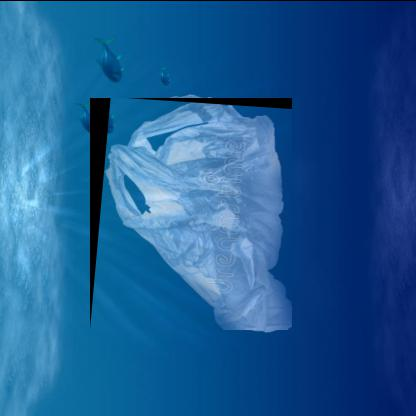plastic-bag: (90, 96, 293, 329)
